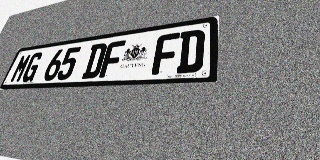5: (55, 46, 81, 80)
6: (42, 48, 67, 81)
D: (176, 29, 205, 74), (81, 43, 108, 79)
F: (151, 32, 180, 75), (99, 40, 126, 78)
G: (20, 52, 44, 82)
M: (9, 53, 33, 83)
